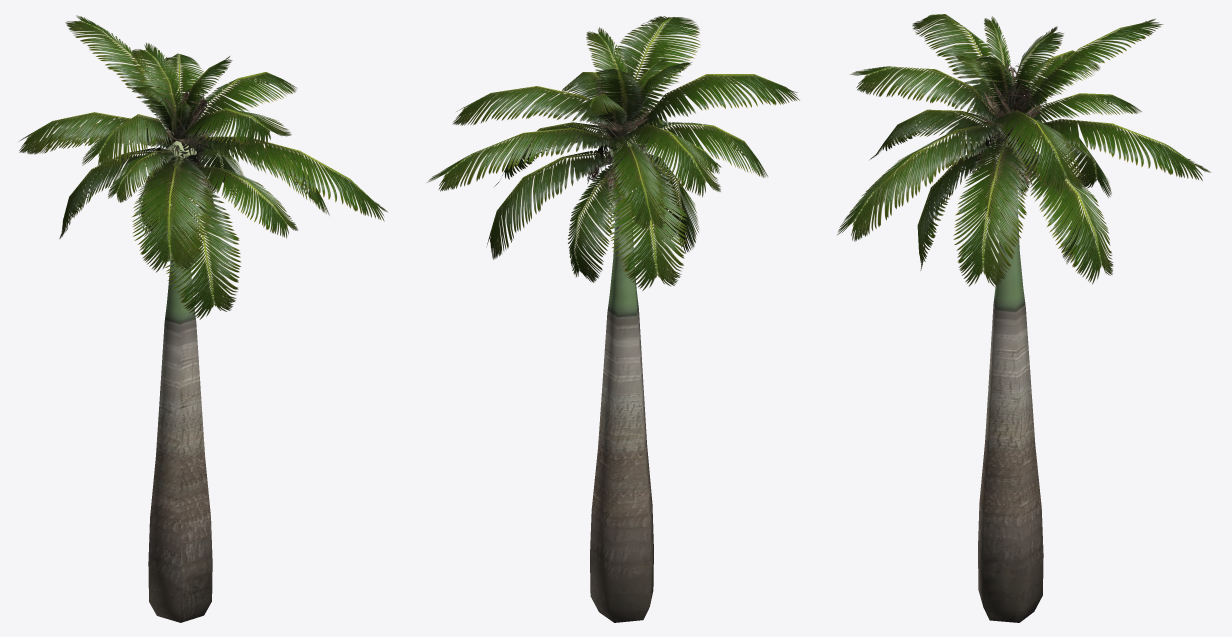
Rendered from Palm_Tropical_02.glb.
3 views of the same model, side by side, from view 1: azimuth 30°, elevation 25°; view 2: azimuth 150°, elevation 25°; view 3: azimuth 270°, elevation 25° (orthographic). The views are drawn at different scales.
Visible parts, largest first — view 1: Palm1_VAR2; view 2: Palm1_VAR2; view 3: Palm1_VAR2.
Part boxes in pixels (box(x1,y1,x2,y2)): Palm1_VAR2: box(18, 15, 387, 622); Palm1_VAR2: box(427, 16, 799, 622); Palm1_VAR2: box(837, 14, 1210, 622).
Bounding box in the file's own units: 2.76 × 5.12 × 3.11.
1 material, 1 textured.
